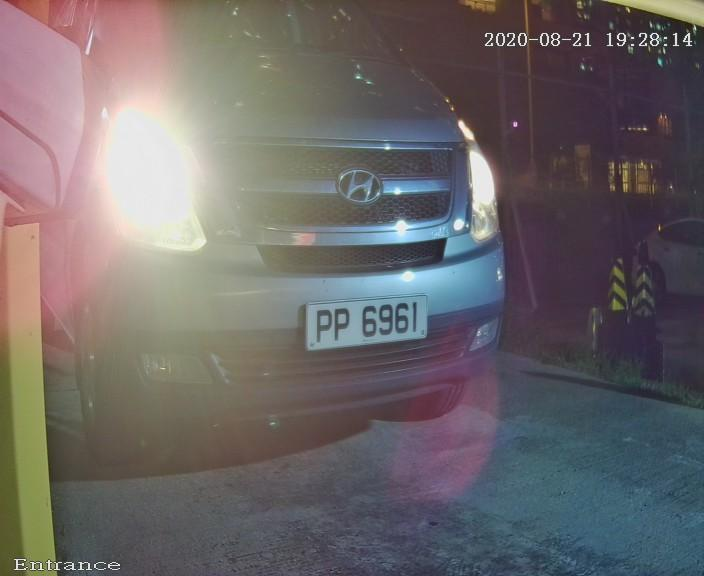Car: (1, 3, 569, 474)
License Plate: (293, 289, 431, 358)
